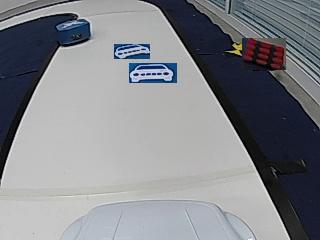prop: (57, 19, 90, 47)
